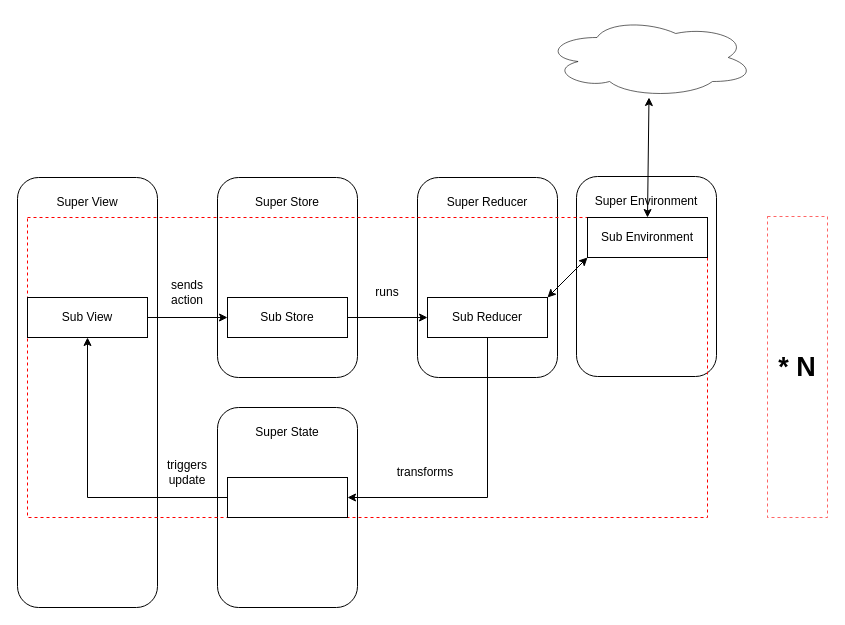
Some shapes in this 845 by 625 pixel diagram are drawn without their labels. Here are the shapes that lost their labels. From the top down, the box of each, then its label:
(544, 16, 754, 98): External(e.g. Server, ...)
(226, 476, 348, 518): Sub State
